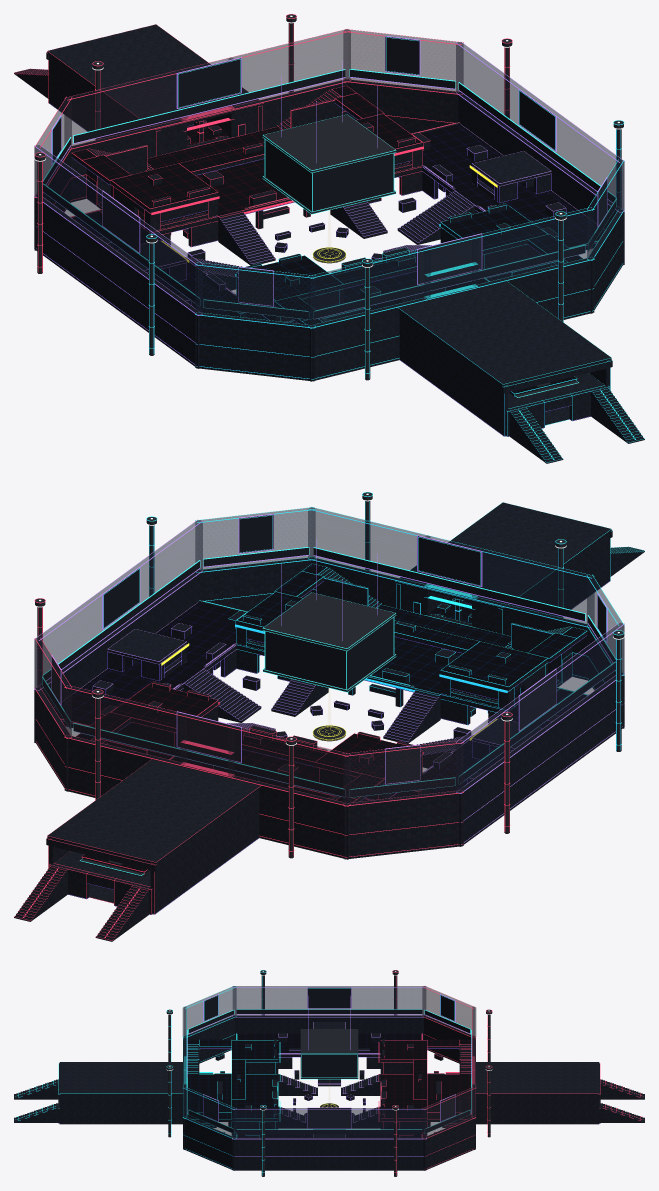
File: kb_arena.glb
The picture shows the model from 3 angles, top to bottom: view 1: azimuth 30°, elevation 25°; view 2: azimuth 150°, elevation 25°; view 3: azimuth 270°, elevation 25°; orthographic projection. The views are drawn at different scales.
Visible parts, largest first — view 1: skin; view 2: skin; view 3: skin.
Boxes of the visible parts, x1=… form: skin: x1=14, y1=14, x2=644, y2=463; skin: x1=14, y1=492, x2=644, y2=941; skin: x1=14, y1=970, x2=644, y2=1176.
Size of the model in its own units: 140 by 49.53 by 271.
24 materials, 6 textured.
